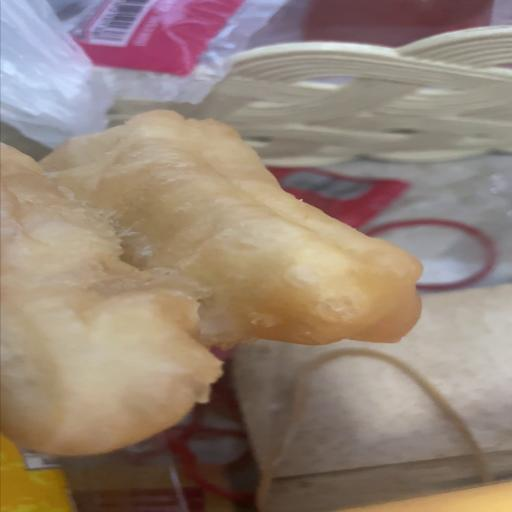street_golden_defect: (0, 111, 423, 460)
